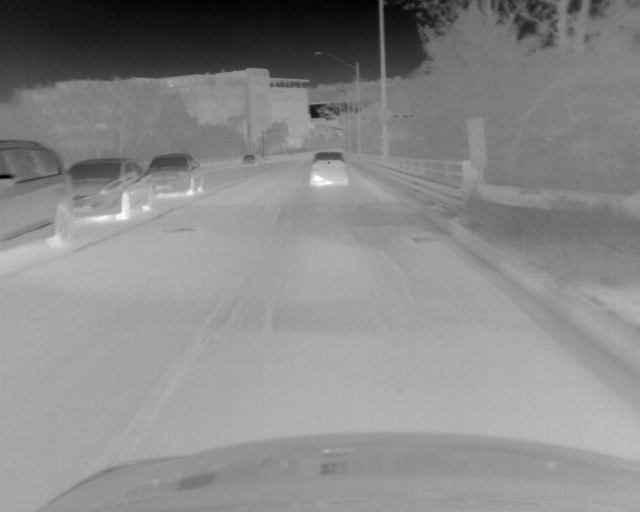car: (1, 139, 77, 250), (68, 157, 150, 220), (150, 151, 201, 196), (310, 150, 348, 187), (240, 154, 256, 167)
